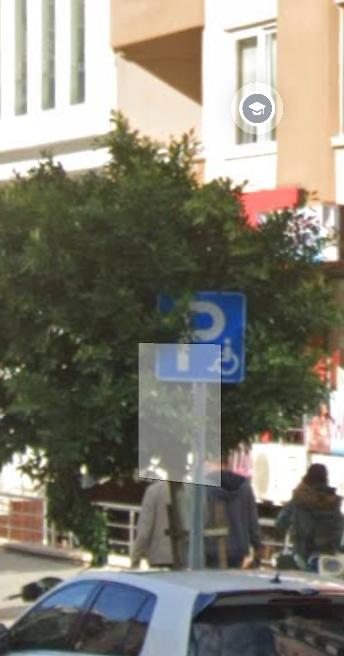disabledpark: (159, 289, 246, 378)
